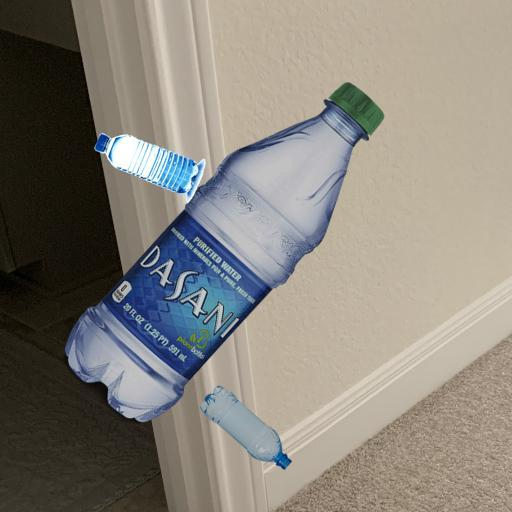bottle: (68, 71, 388, 471)
